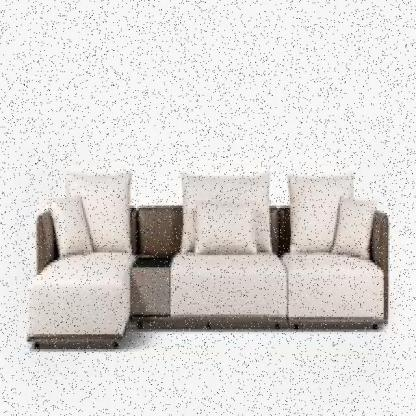Sofa: (19, 152, 402, 367)
